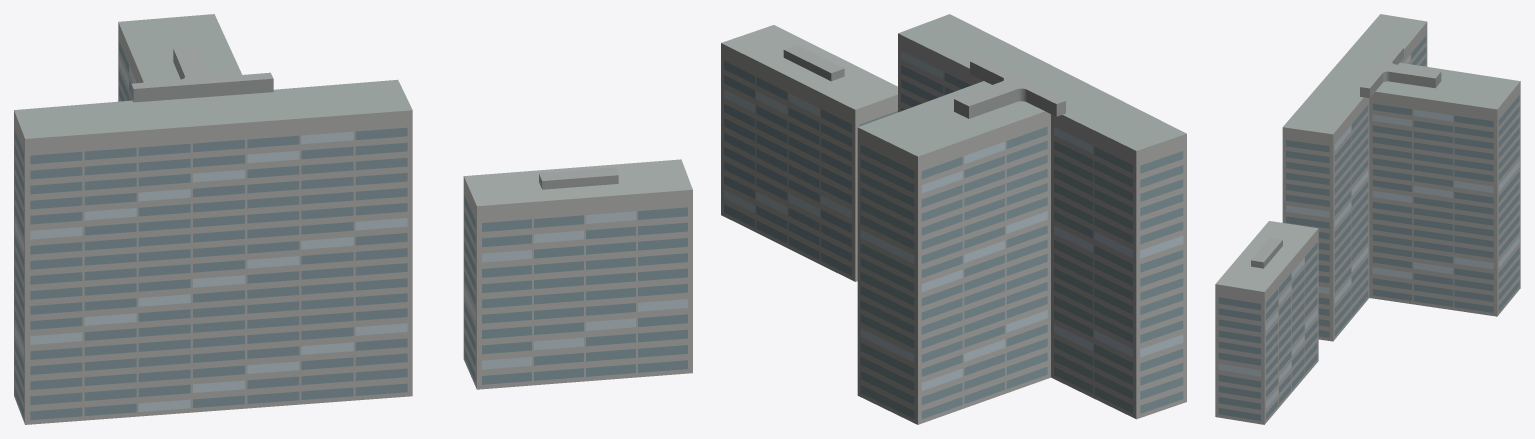
Rendered from apt-a13382802.glb.
The picture shows the model from 3 angles, left to right: view 1: azimuth 30°, elevation 25°; view 2: azimuth 150°, elevation 25°; view 3: azimuth 270°, elevation 25°; orthographic projection. The views are drawn at different scales.
Visible parts, largest first — view 1: apt-a13382802; view 2: apt-a13382802; view 3: apt-a13382802.
Boxes of the visible parts, x1,y1,x2,y2 form: apt-a13382802: (14, 14, 692, 424); apt-a13382802: (721, 14, 1186, 424); apt-a13382802: (1215, 14, 1520, 424).
Size of the model in its own units: 107 by 53 by 67.58.
